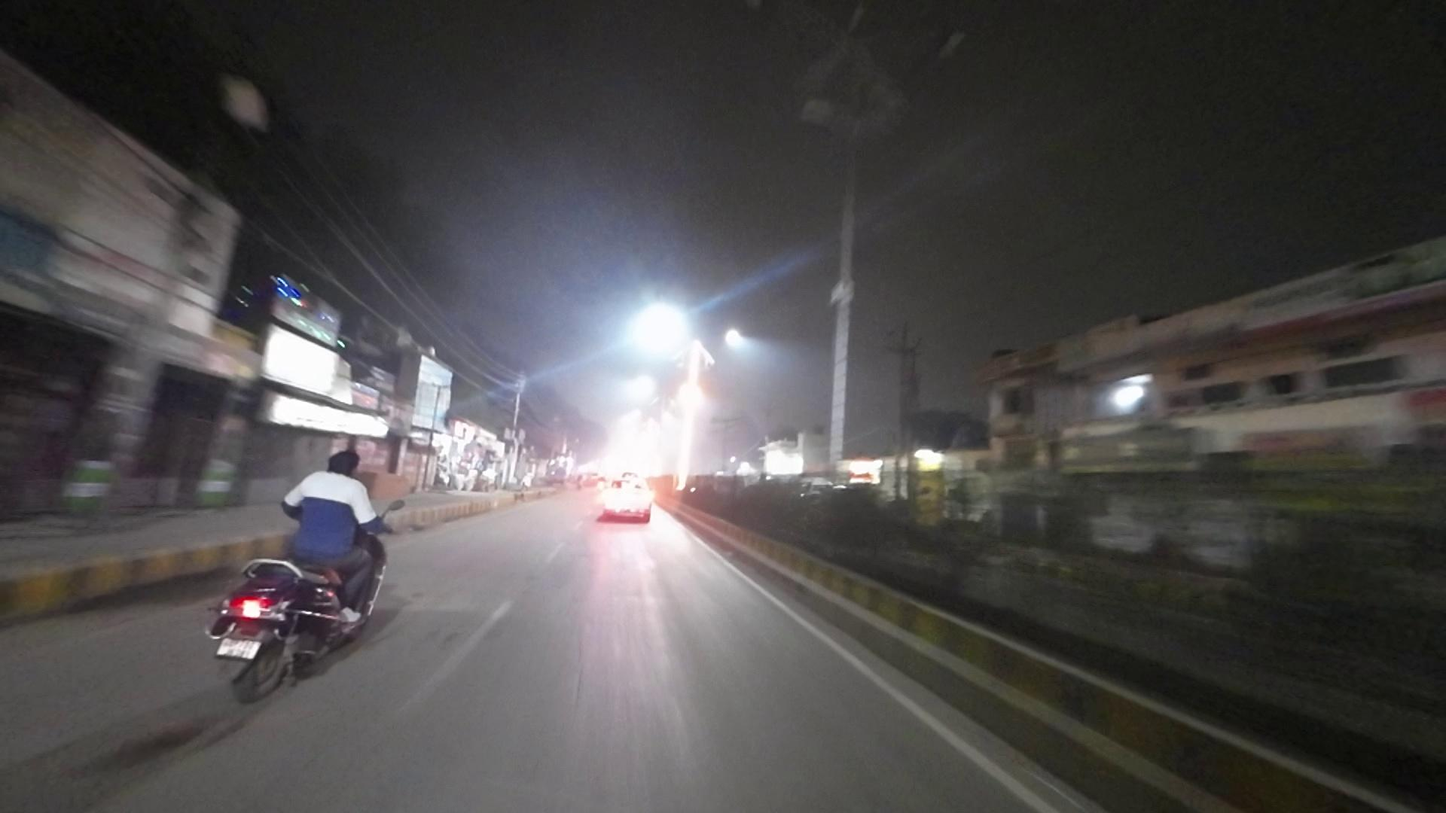streetlight: (869, 20, 966, 58)
